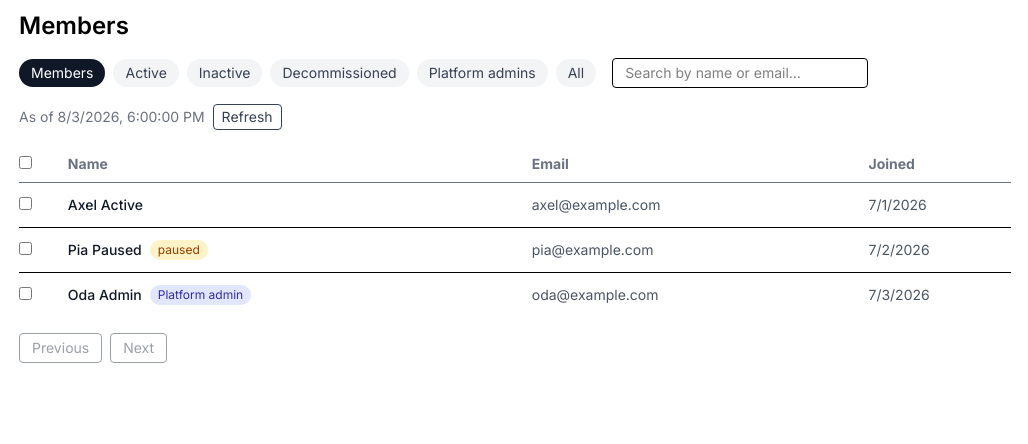
Test case: AdminMembersList — the bounded list (FEAT-H039 STORY-1) › Refresh refetches the current view and clears selection
The width and height of the screenshot is (1028, 444).
Click the checkbox named "Select Axel Active".
click(26, 204)  # box [19,197,32,210]
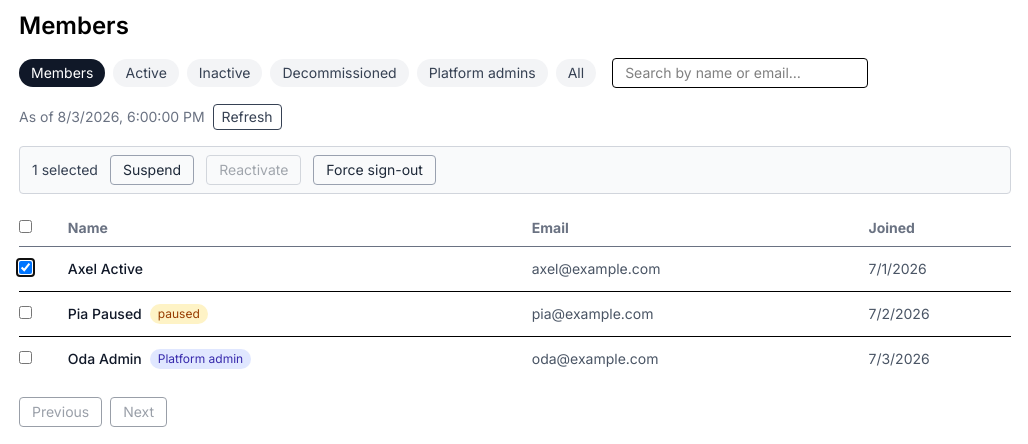
Result: the text with test id "selection-count" reads "1 selected" at [32,160,98,180]
Click the button "Refresh".
click(247, 117)  # box [213,104,282,130]
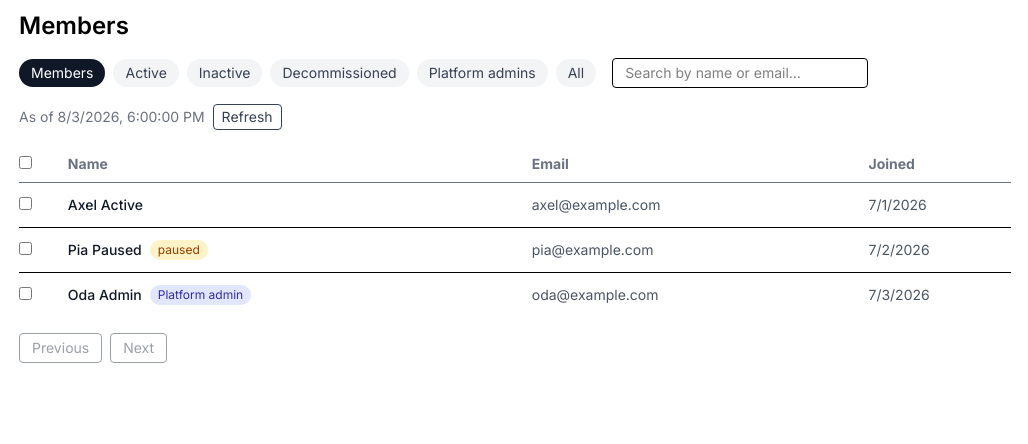
Result: the text with test id "selection-count" is gone
